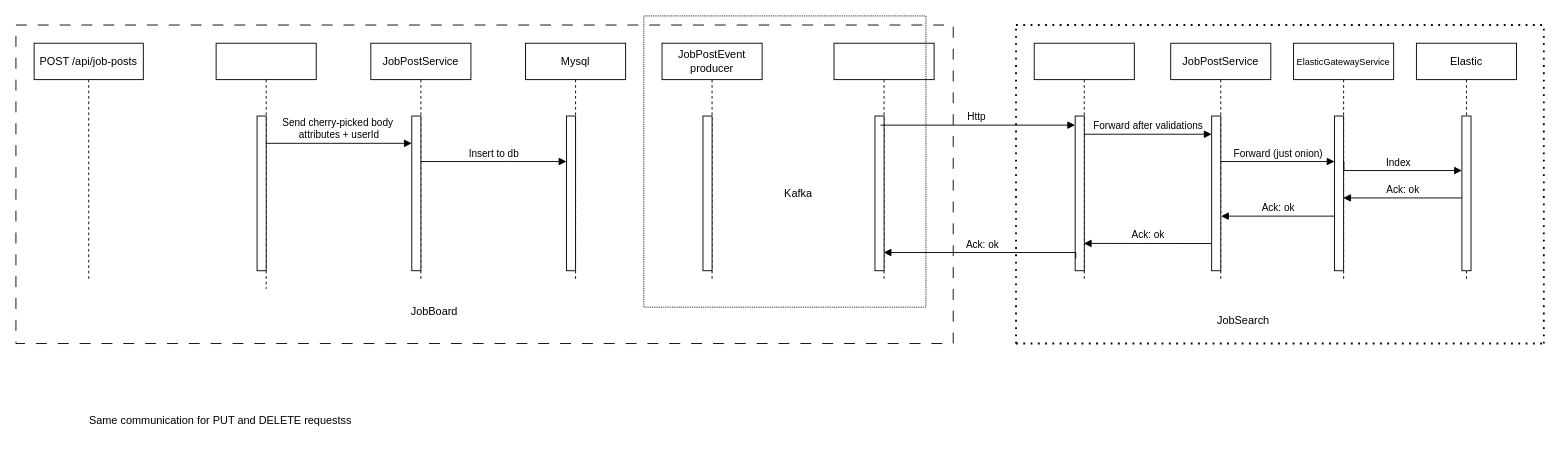
The diagram is 1562 pixels wide and 469 high, and some of its shapes have lost their labels. Here are the shapes that lost their labels. From the top down, the box of each, then its label:
(215, 42, 316, 289): JobPostController
(833, 42, 934, 280): JobPostEvent consumer
(1033, 42, 1134, 280): POST /rpc/job-posts
